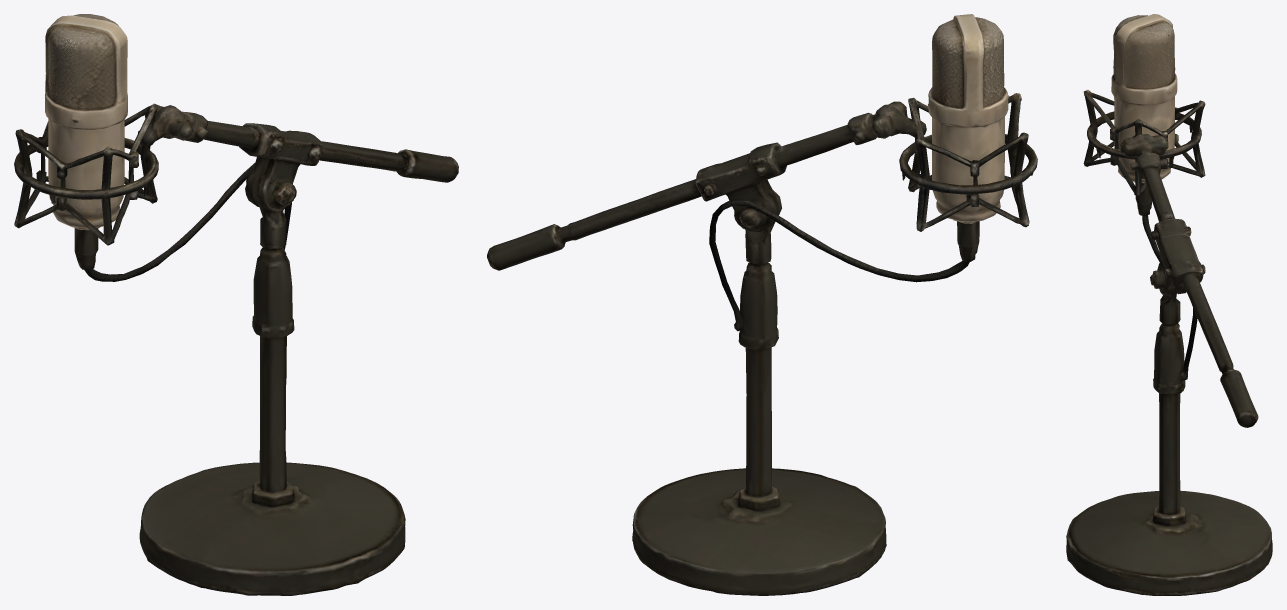
Rendered from mic.glb.
3 views of the same model, side by side, from view 1: azimuth 30°, elevation 25°; view 2: azimuth 150°, elevation 25°; view 3: azimuth 270°, elevation 25° (orthographic). The views are drawn at different scales.
Parts seen in each view (by area): view 1: tripo_node_40c7ff53-3861-456d-9dc8-0126e038603e; view 2: tripo_node_40c7ff53-3861-456d-9dc8-0126e038603e; view 3: tripo_node_40c7ff53-3861-456d-9dc8-0126e038603e.
Part boxes in pixels (x1,y1,x2,y2): tripo_node_40c7ff53-3861-456d-9dc8-0126e038603e: (14,14,458,595); tripo_node_40c7ff53-3861-456d-9dc8-0126e038603e: (487,14,1037,595); tripo_node_40c7ff53-3861-456d-9dc8-0126e038603e: (1066,14,1272,595).
Size of the model in its own units: 0.9059 by 1 by 0.4112.
Materials: 1 (1 with a texture image).
